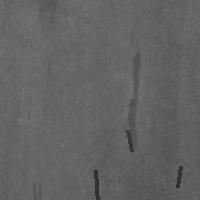inclusion: (122, 30, 149, 166), (27, 177, 49, 199), (125, 128, 133, 153), (93, 168, 99, 200), (175, 164, 182, 189)
